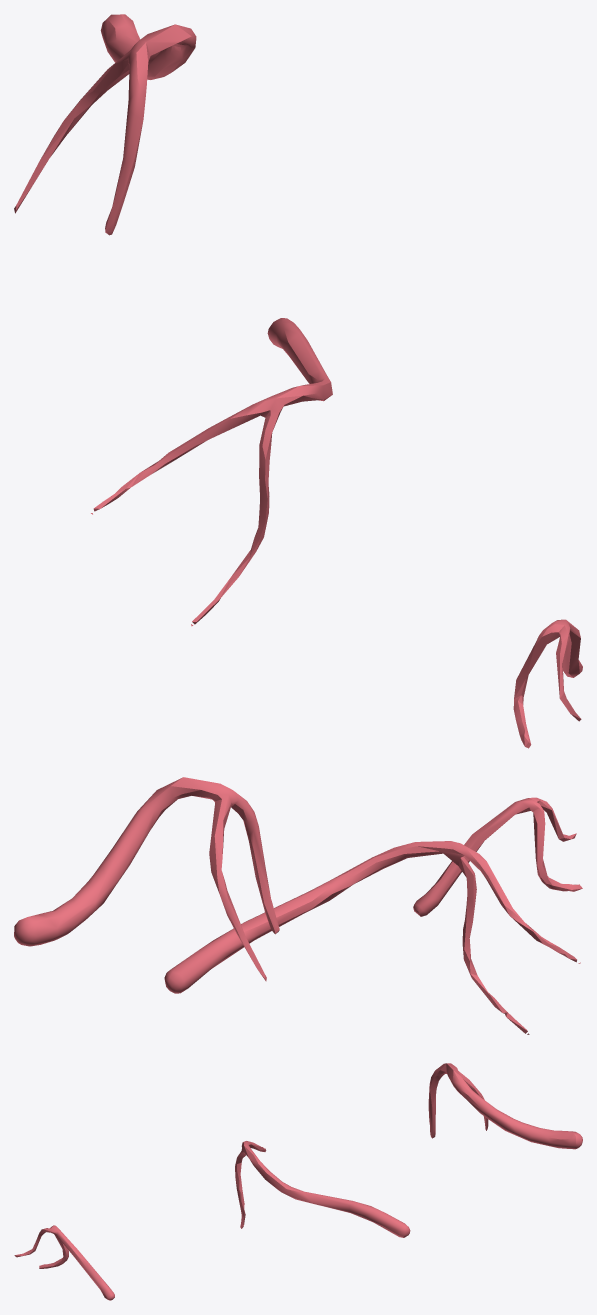
Rendered from fma51231_fj5101.glb.
The picture shows the model from 3 angles, top to bottom: view 1: azimuth 30°, elevation 25°; view 2: azimuth 150°, elevation 25°; view 3: azimuth 270°, elevation 25°; orthographic projection. The views are drawn at different scales.
Parts seen in each view (by area): view 1: FMA51231_FJ5101; view 2: FMA51231_FJ5101; view 3: FMA51231_FJ5101.
Boxes of the visible parts, <box> form: FMA51231_FJ5101: <box>14,14,582,748</box>; FMA51231_FJ5101: <box>14,777,582,1034</box>; FMA51231_FJ5101: <box>14,1063,582,1300</box>.
Bounding box in the file's own units: 0.013 × 0.0151 × 0.0363.
